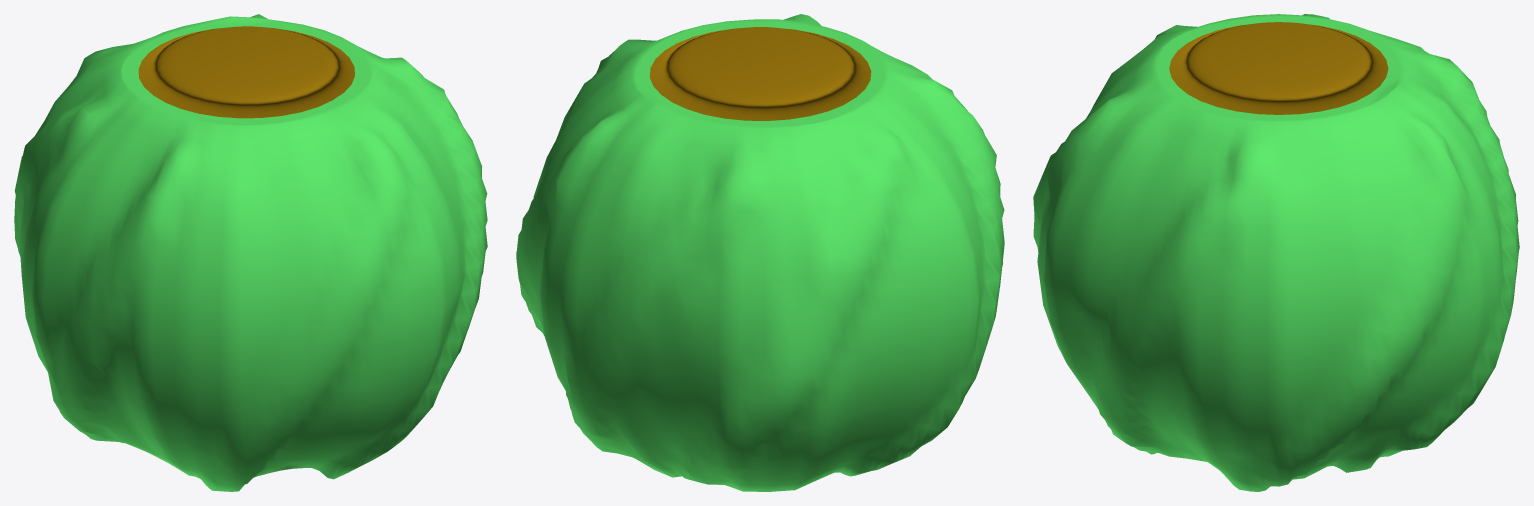
Rendered from kaktus.glb.
3 views of the same model, side by side, from view 1: azimuth 30°, elevation 25°; view 2: azimuth 150°, elevation 25°; view 3: azimuth 270°, elevation 25° (orthographic). The views are drawn at different scales.
Parts seen in each view (by area): view 1: Сфера, Цилиндр; view 2: Сфера, Цилиндр; view 3: Сфера, Цилиндр.
Part boxes in pixels (<box>): Сфера: <box>14,14,487,491</box>; Цилиндр: <box>138,26,354,118</box>; Сфера: <box>516,14,1004,491</box>; Цилиндр: <box>650,27,871,120</box>; Сфера: <box>1033,14,1519,491</box>; Цилиндр: <box>1169,22,1388,114</box>.
Bounding box in the file's own units: 2.13 × 1.84 × 2.11.
